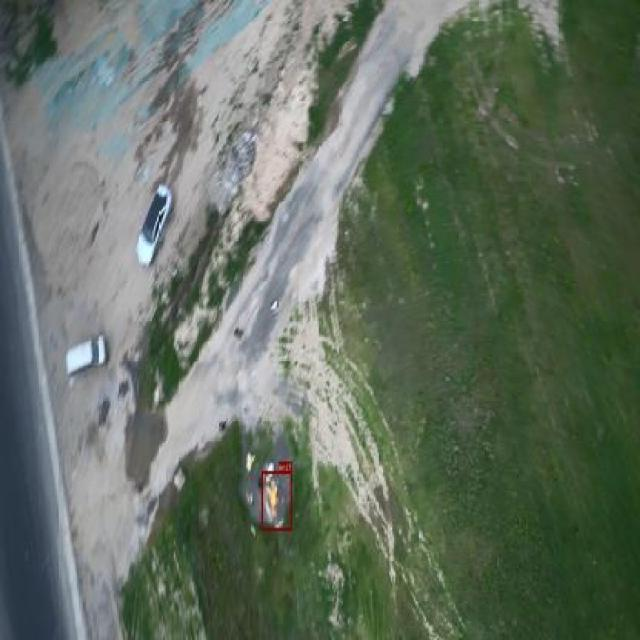fire: (262, 470, 292, 530)
